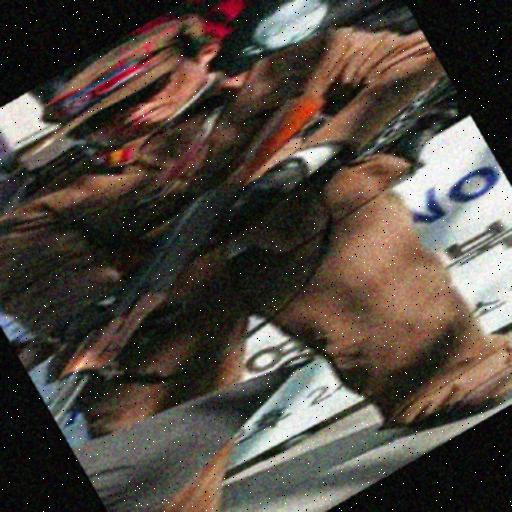north army: (45, 44, 457, 419)
